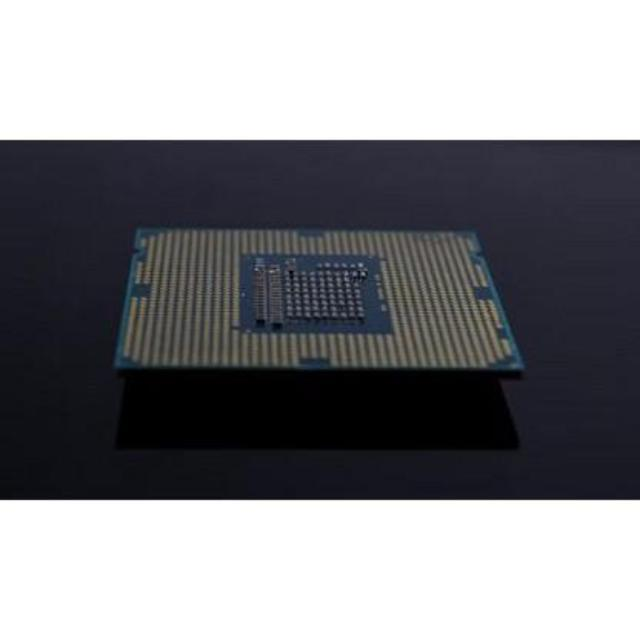CPU: (119, 225, 514, 370)
